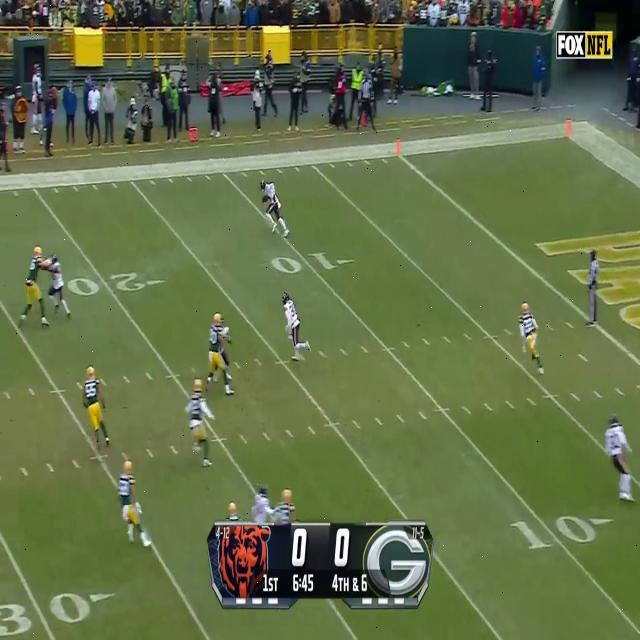Player: (117, 459, 152, 547), (604, 418, 633, 502), (22, 245, 46, 330), (82, 366, 105, 451), (188, 376, 208, 466), (518, 300, 542, 374), (208, 311, 226, 391), (282, 291, 302, 361), (261, 180, 284, 234), (49, 253, 66, 316)
Referee: (586, 246, 600, 326), (359, 70, 375, 132)
